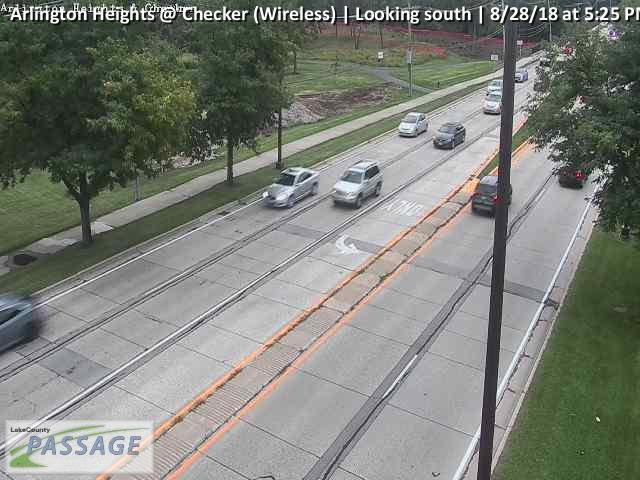SUV: (329, 160, 383, 209), (471, 174, 513, 217), (433, 120, 465, 149), (482, 90, 501, 114), (487, 78, 506, 94), (512, 67, 528, 83)
Sedan: (261, 167, 319, 209), (397, 112, 429, 138)
